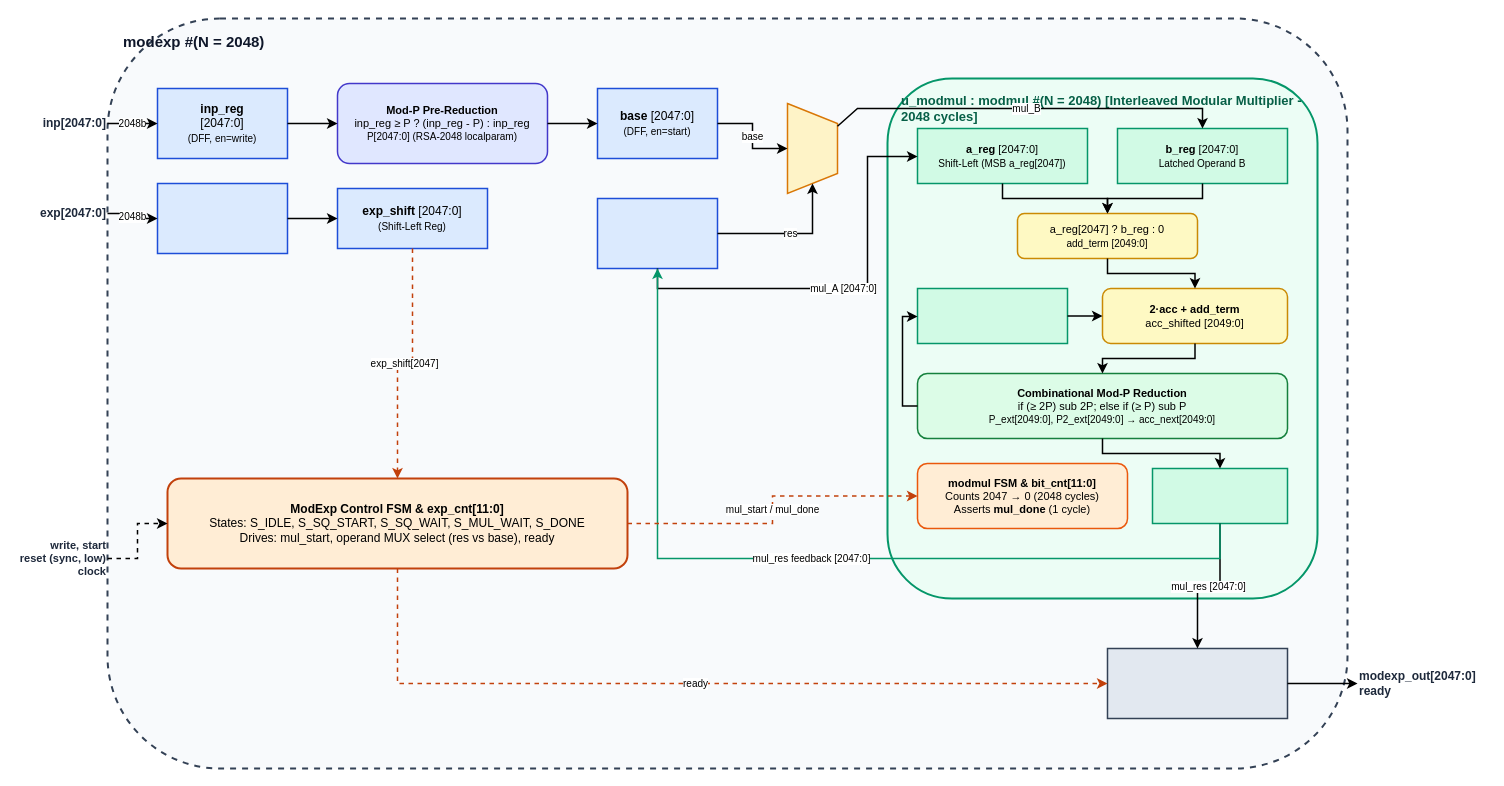
Some shapes in this 1504 by 786 pixel diagram are drawn without their labels. Each missing label, with the centre of its shape:
acc [2049:0] 2050-bit Accumulator: the point at 992,315
exp_reg [2047:0] (DFF, en=write): the point at 222,218
modexp_out [2047:0] ready (1-cycle pulse): the point at 1197,683
mul_res [2047:0] (Output Reg): the point at 1219,495
MUX B: the point at 812,148
res [2047:0] (init = 1 on start): the point at 657,233
